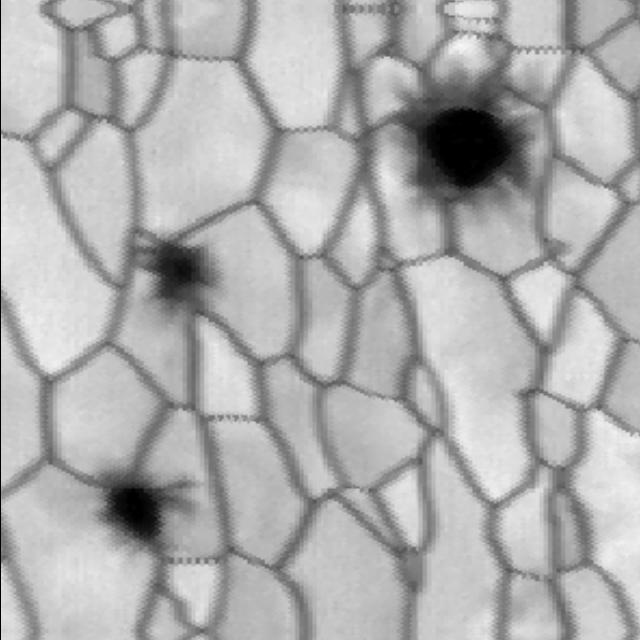good_void: (388, 58, 547, 233), (124, 218, 245, 317), (88, 461, 194, 561)
